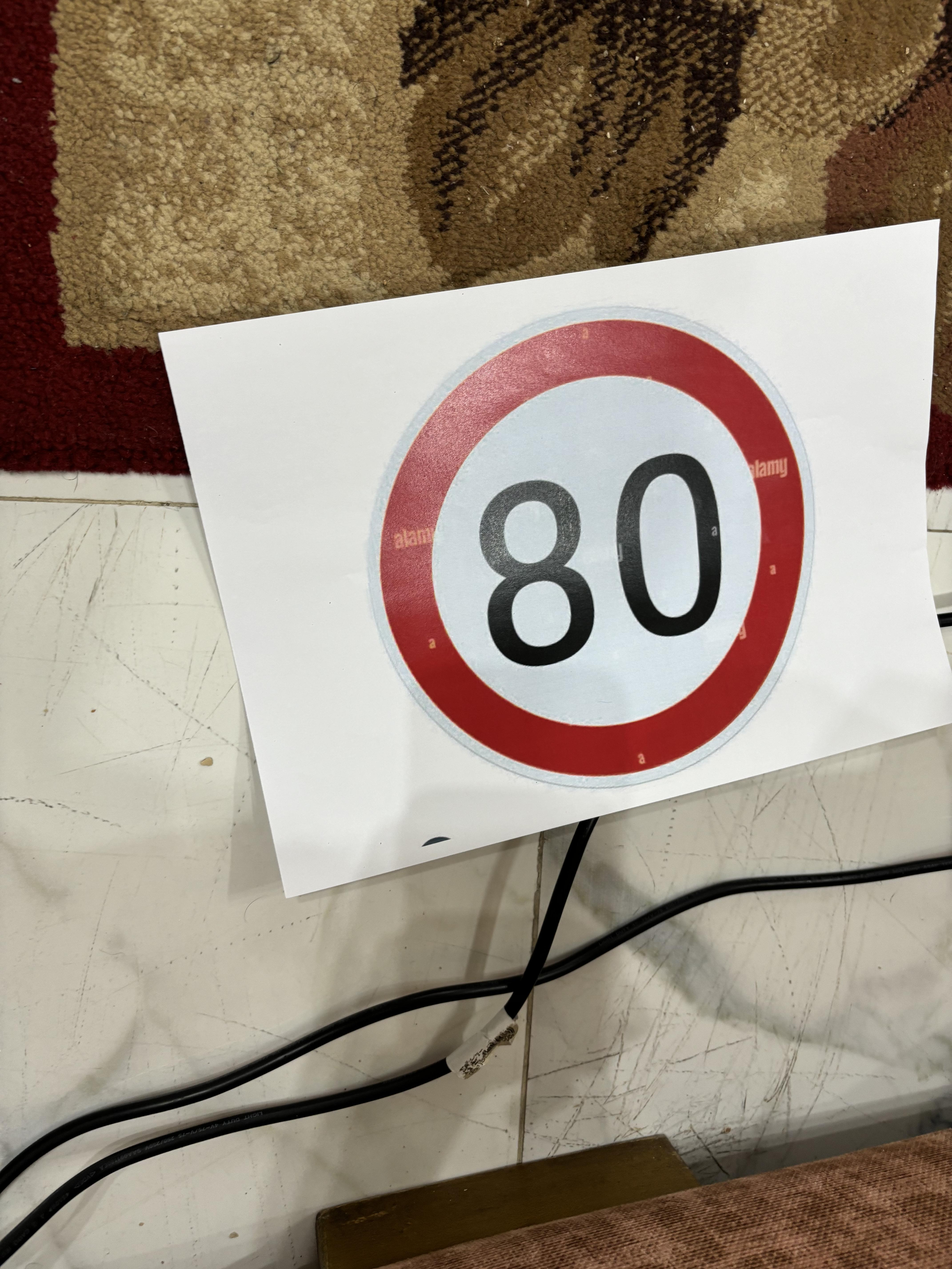80-Speed: (372, 305, 815, 787)
